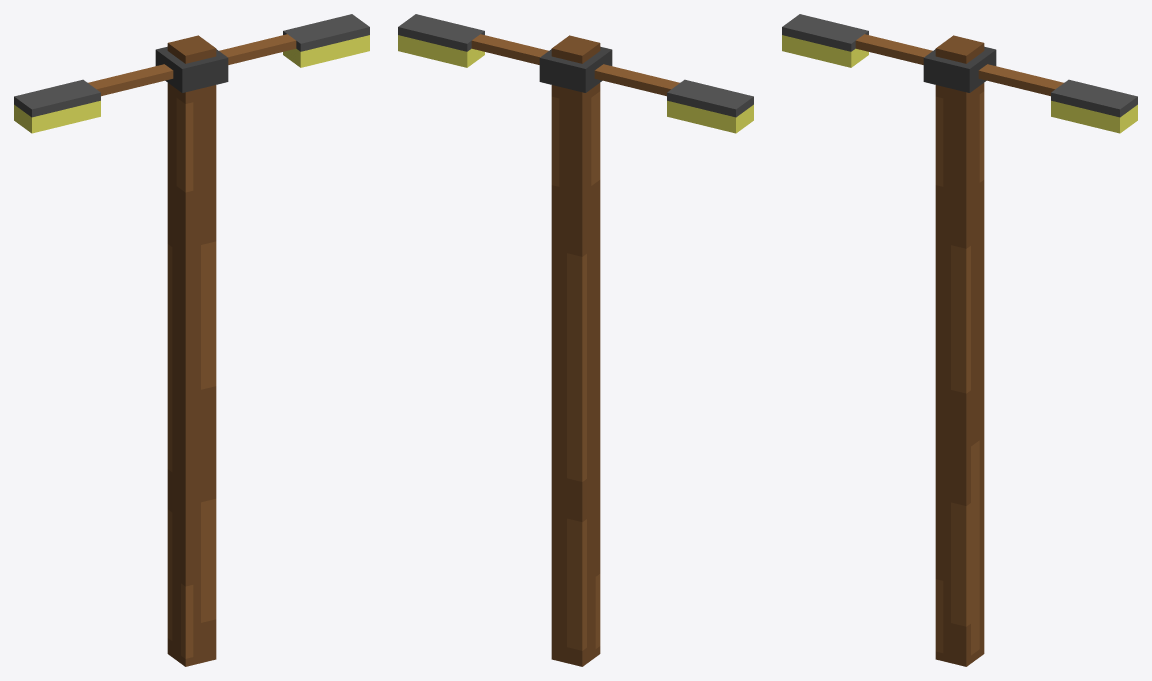
The model's file is lampose.obj.
The picture shows the model from 3 angles, left to right: view 1: azimuth 30°, elevation 25°; view 2: azimuth 150°, elevation 25°; view 3: azimuth 330°, elevation 25°; orthographic projection.
Bounding box in the file's own units: 4.4 × 7.6 × 0.6.
1 material, 1 textured.
